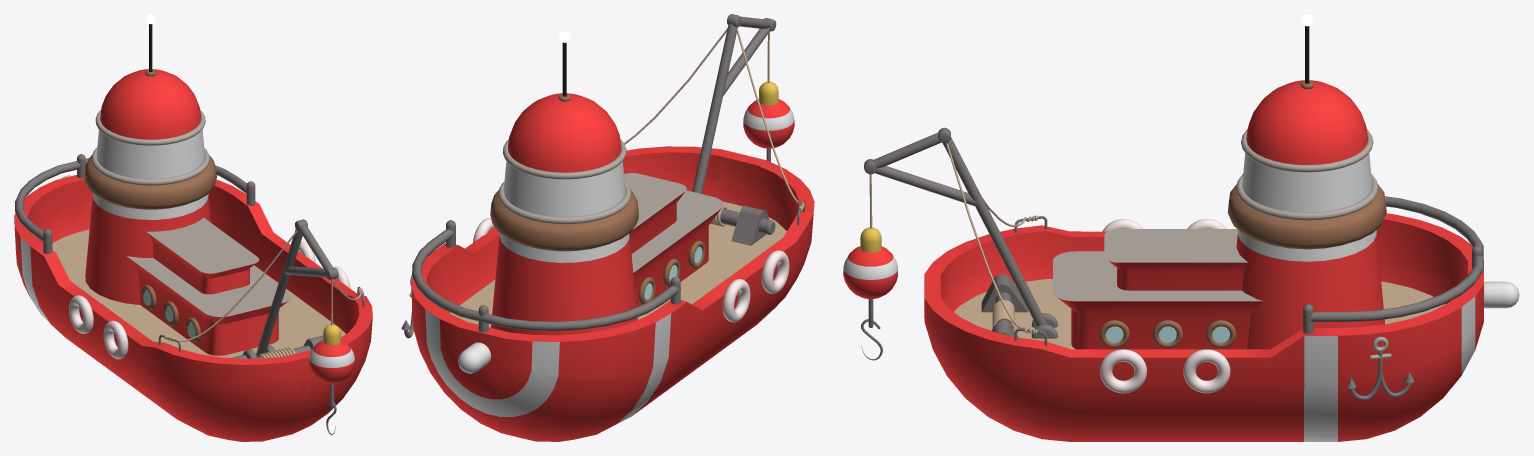
File: boat.glb
3 renders of one model, left to right at view 1: azimuth 30°, elevation 25°; view 2: azimuth 150°, elevation 25°; view 3: azimuth 270°, elevation 25°, orthographic. The views are drawn at different scales.
Parts seen in each view (by area): view 1: object 48, object 41, object 34, object 39, object 47, object 33, object 42, object 17, Sweep_2_8, object 23, object 40, object 11 (+5 smaller); view 2: object 48, object 41, object 39, object 34, object 42, object 47, Sweep_2_8, object 33, object 17, object 23, object 40, object 11 (+8 smaller); view 3: object 48, object 41, object 34, object 33, object 39, object 42, object 47, Sweep_2_8, object 17, object 23, object 12, object 11 (+7 smaller).
Part boxes in pixels (x1=…): object 48: x1=14, y1=175, x2=372, y2=441; object 41: x1=85, y1=129, x2=211, y2=304; object 34: x1=126, y1=256, x2=291, y2=355; object 39: x1=100, y1=69, x2=201, y2=139; object 47: x1=52, y1=229, x2=345, y2=357; object 33: x1=146, y1=217, x2=258, y2=294; object 42: x1=84, y1=155, x2=216, y2=209; object 17: x1=309, y1=340, x2=354, y2=383; Sweep_2_8: x1=15, y1=158, x2=246, y2=242; object 23: x1=256, y1=229, x2=302, y2=356; object 40: x1=91, y1=147, x2=209, y2=185; object 11: x1=69, y1=241, x2=315, y2=333; object 48: x1=411, y1=146, x2=814, y2=441; object 41: x1=491, y1=161, x2=637, y2=335; object 39: x1=508, y1=93, x2=621, y2=172; object 34: x1=631, y1=190, x2=723, y2=306; object 42: x1=490, y1=189, x2=638, y2=251; object 47: x1=449, y1=201, x2=786, y2=327; Sweep_2_8: x1=412, y1=229, x2=681, y2=330; object 33: x1=624, y1=173, x2=686, y2=253; object 17: x1=743, y1=99, x2=794, y2=148; object 23: x1=692, y1=24, x2=737, y2=193; object 40: x1=498, y1=181, x2=630, y2=224; object 11: x1=473, y1=218, x2=750, y2=322; object 48: x1=924, y1=213, x2=1483, y2=441; object 41: x1=1236, y1=153, x2=1384, y2=349; object 34: x1=1053, y1=251, x2=1263, y2=349; object 33: x1=1104, y1=229, x2=1248, y2=290; object 39: x1=1246, y1=80, x2=1368, y2=164; object 42: x1=1227, y1=184, x2=1386, y2=249; object 47: x1=954, y1=279, x2=1445, y2=349; Sweep_2_8: x1=1309, y1=196, x2=1483, y2=321; object 17: x1=843, y1=246, x2=897, y2=298; object 23: x1=942, y1=137, x2=1047, y2=326; object 12: x1=1099, y1=219, x2=1146, y2=393; object 11: x1=1183, y1=219, x2=1230, y2=393.
Bounding box in the file's own units: 1.21 × 1.71 × 2.54.
